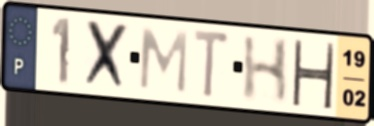1: (49, 16, 73, 88)
H: (240, 34, 292, 106), (289, 37, 338, 112)
M: (136, 25, 190, 97)
T: (191, 26, 232, 102)
X: (81, 17, 132, 95)
